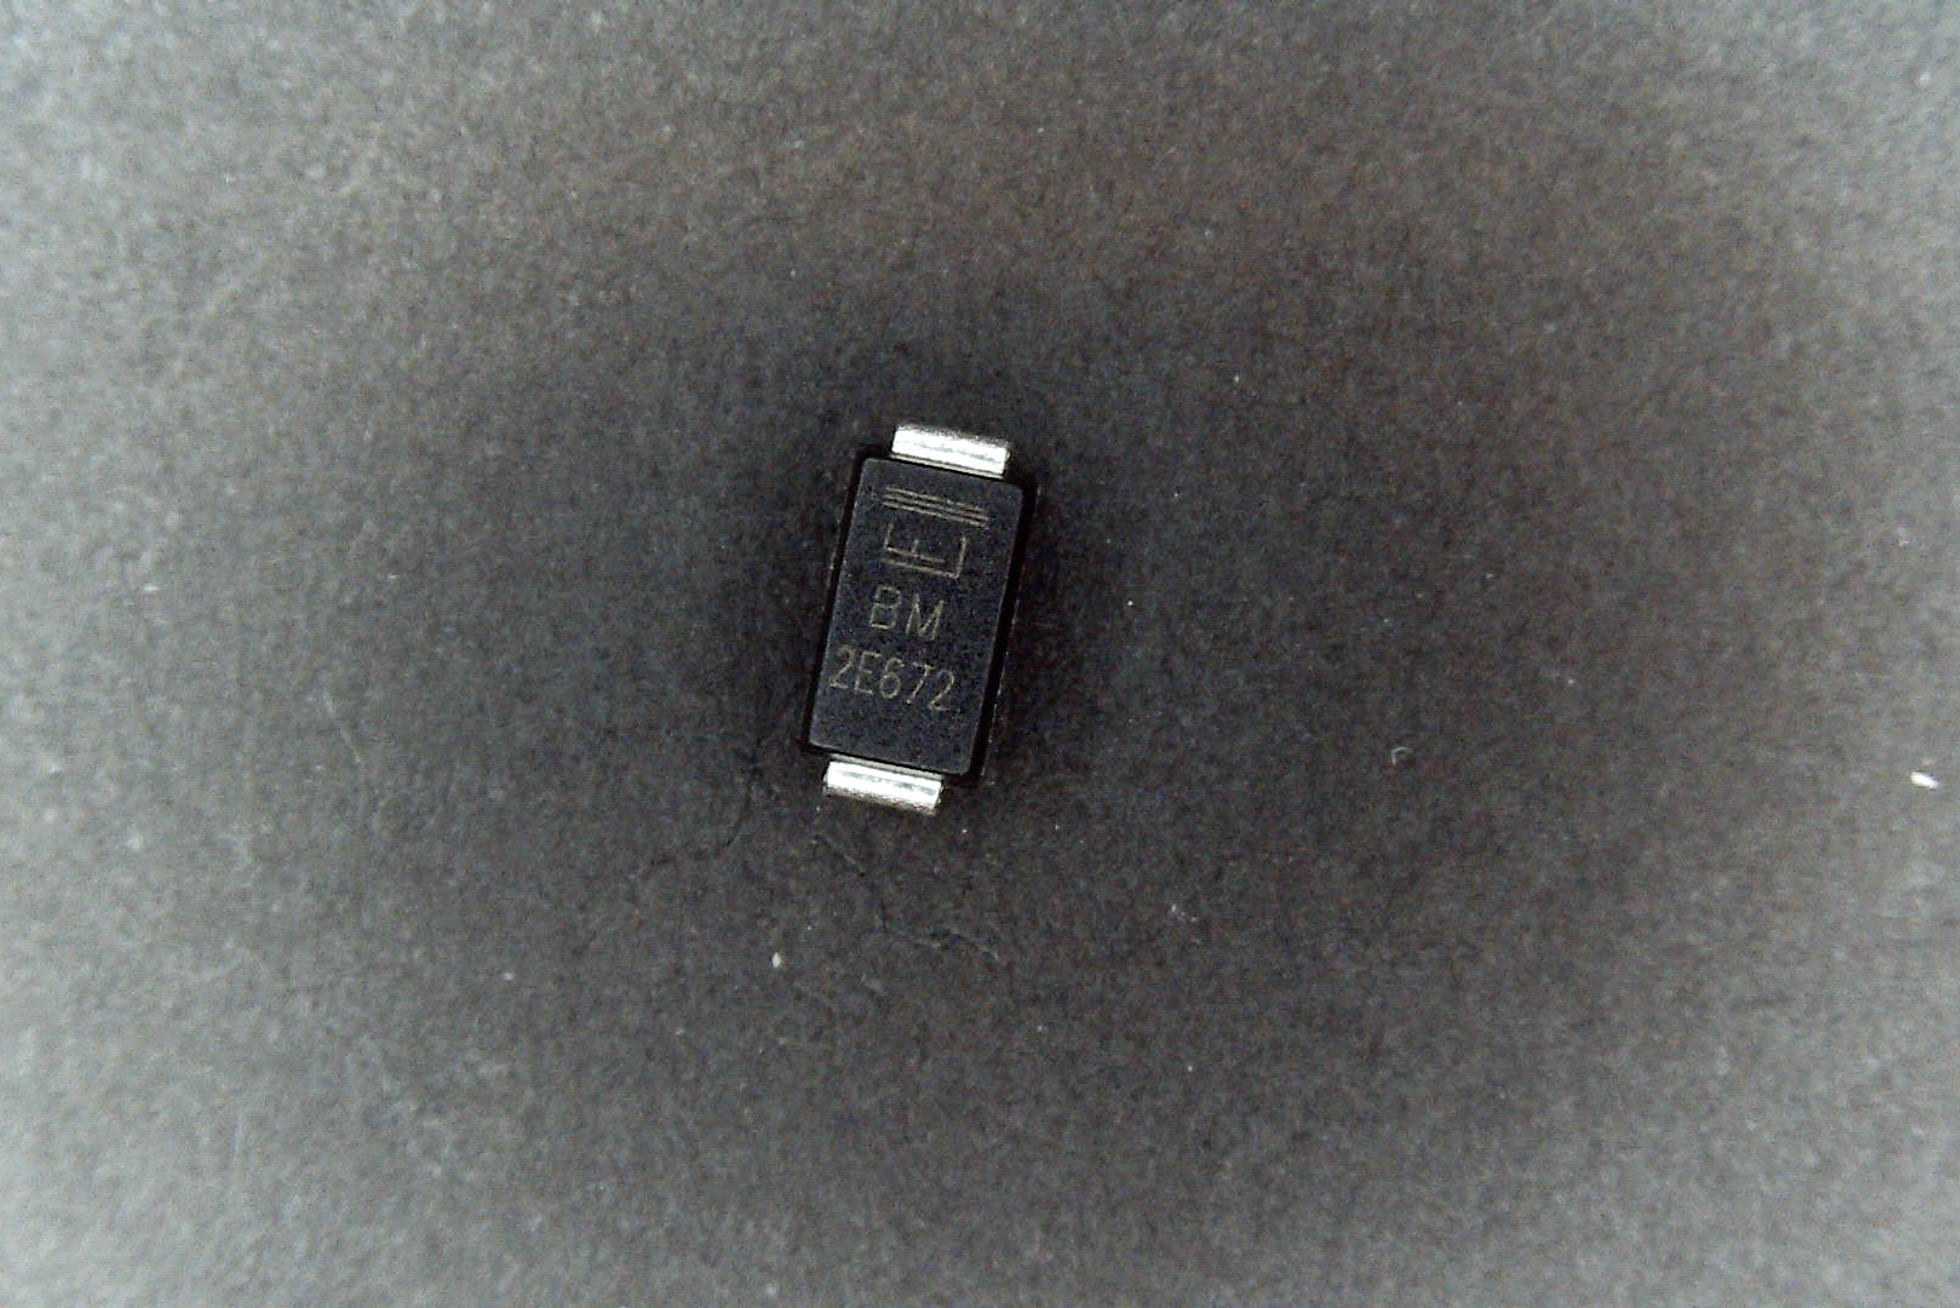bbox: (795, 422, 1027, 831)
